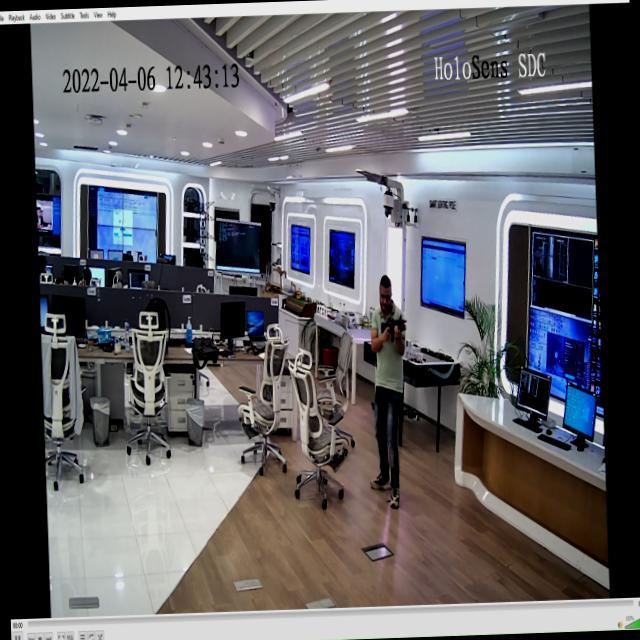long weapon: (375, 306, 407, 352)
